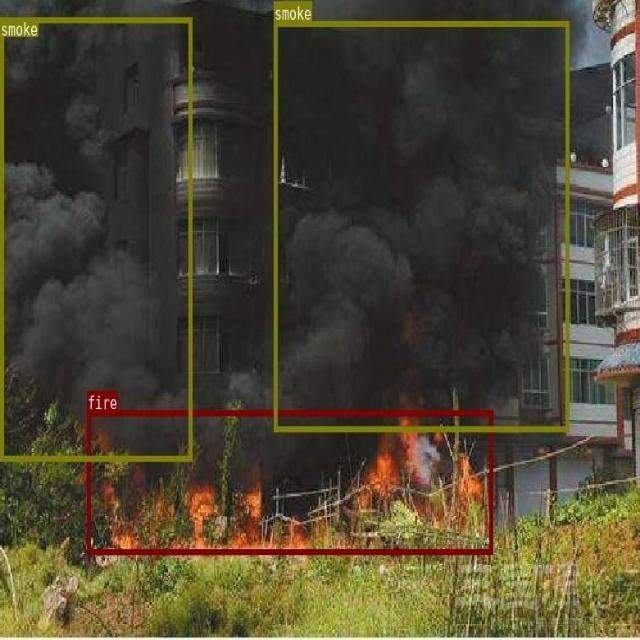fire: (87, 410, 493, 554)
smoke: (273, 20, 568, 430), (0, 16, 191, 459)
